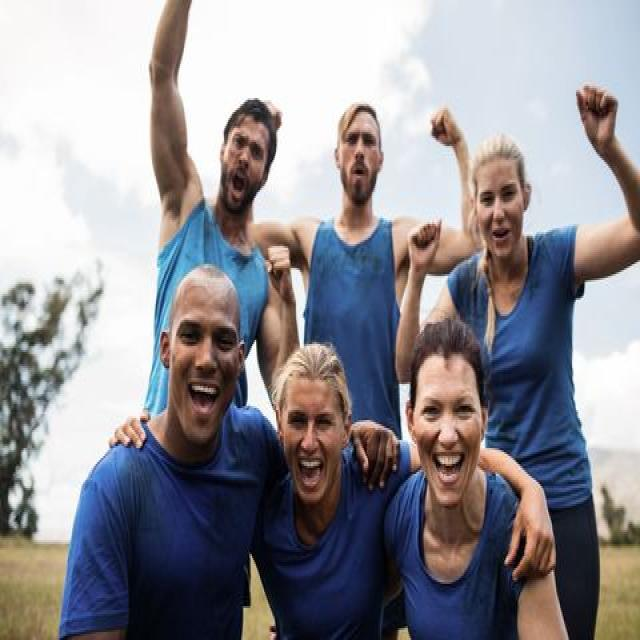nohelmet: (408, 316, 484, 510), (167, 265, 240, 448), (278, 344, 349, 511), (471, 133, 530, 264), (221, 97, 269, 223), (337, 101, 383, 210)
